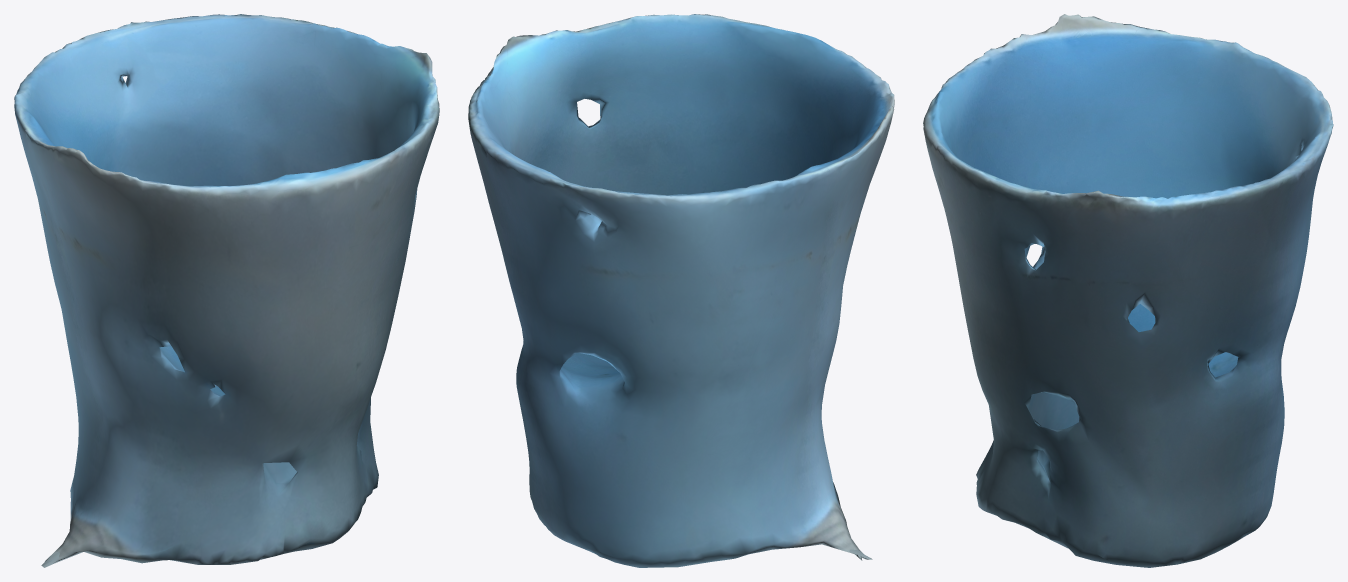
The model's file is light_blue_cup.obj.
3 renders of one model, left to right at view 1: azimuth 30°, elevation 25°; view 2: azimuth 150°, elevation 25°; view 3: azimuth 270°, elevation 25°, orthographic. The views are drawn at different scales.
Parts seen in each view (by area): view 1: mesh_0; view 2: mesh_0; view 3: mesh_0.
Part boxes in pixels (x1,y1,x2,y2): mesh_0: [14, 14, 439, 567]; mesh_0: [468, 14, 894, 567]; mesh_0: [923, 14, 1333, 567].
Bounding box in the file's own units: 0.0804 × 0.0903 × 0.079.
1 material, 1 textured.
